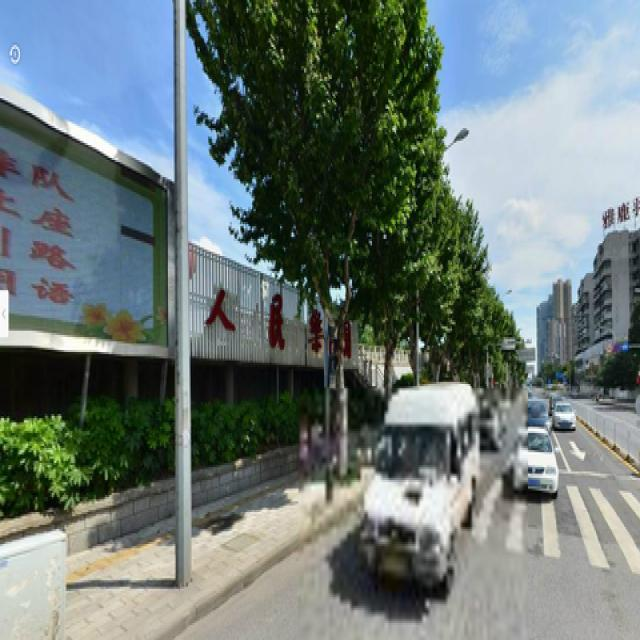meta: (266, 6, 398, 438)
